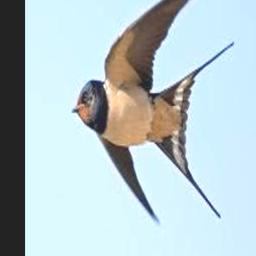Swallow: (72, 0, 234, 224)
